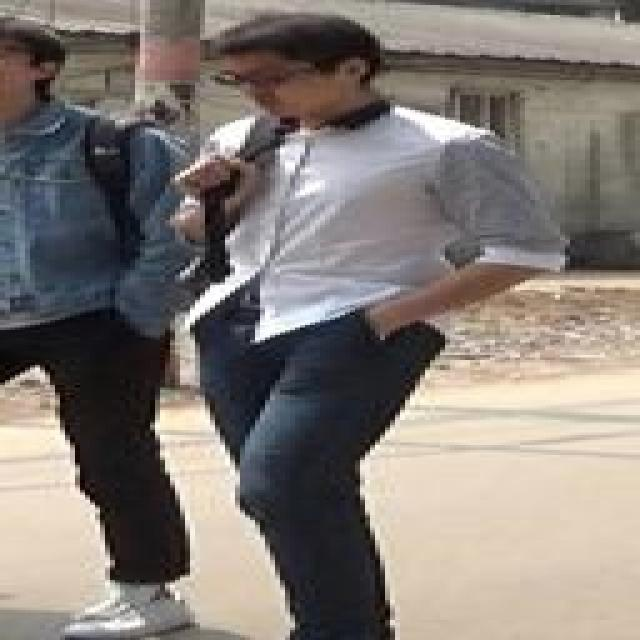adult: (175, 20, 565, 640), (0, 12, 190, 640)
